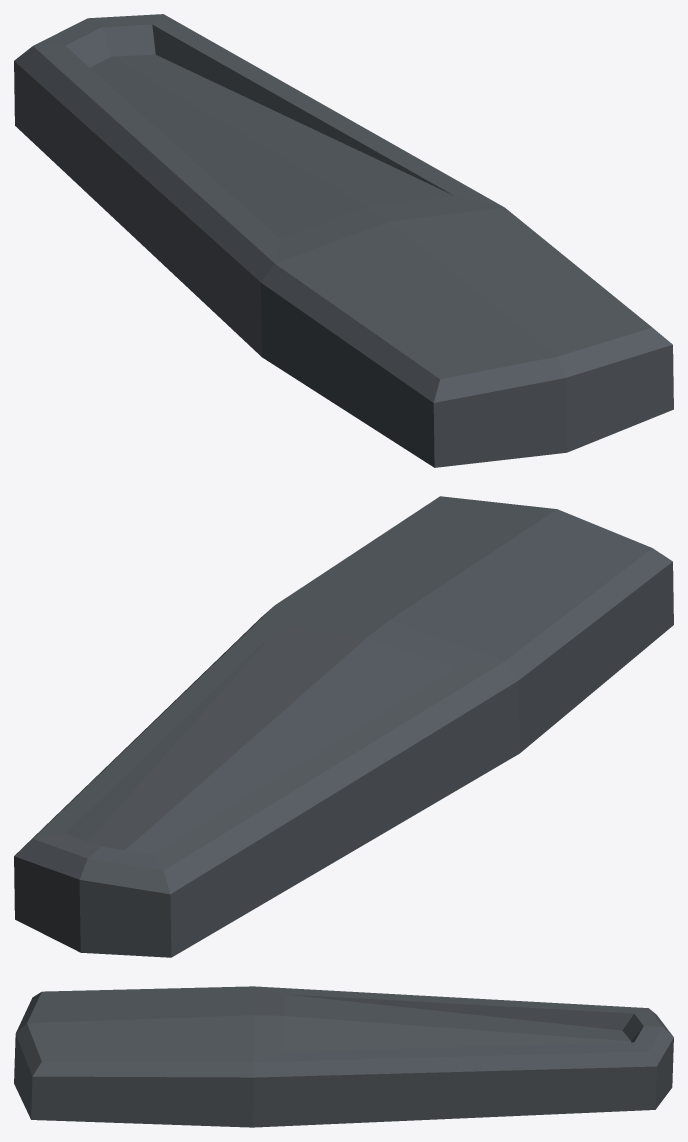
Rendered from Mothership_02_Detail_3_Red.fbx.
3 renders of one model, top to bottom at view 1: azimuth 30°, elevation 25°; view 2: azimuth 150°, elevation 25°; view 3: azimuth 270°, elevation 25°, orthographic. The views are drawn at different scales.
Parts seen in each view (by area): view 1: Mothership_02_Detail_3_Red; view 2: Mothership_02_Detail_3_Red; view 3: Mothership_02_Detail_3_Red.
Boxes of the visible parts, <box> form: Mothership_02_Detail_3_Red: <box>14,14,673,467</box>; Mothership_02_Detail_3_Red: <box>14,496,673,957</box>; Mothership_02_Detail_3_Red: <box>14,986,673,1127</box>.
Bounding box in the file's own units: 400 × 175 × 1310.
1 material, 1 textured.
